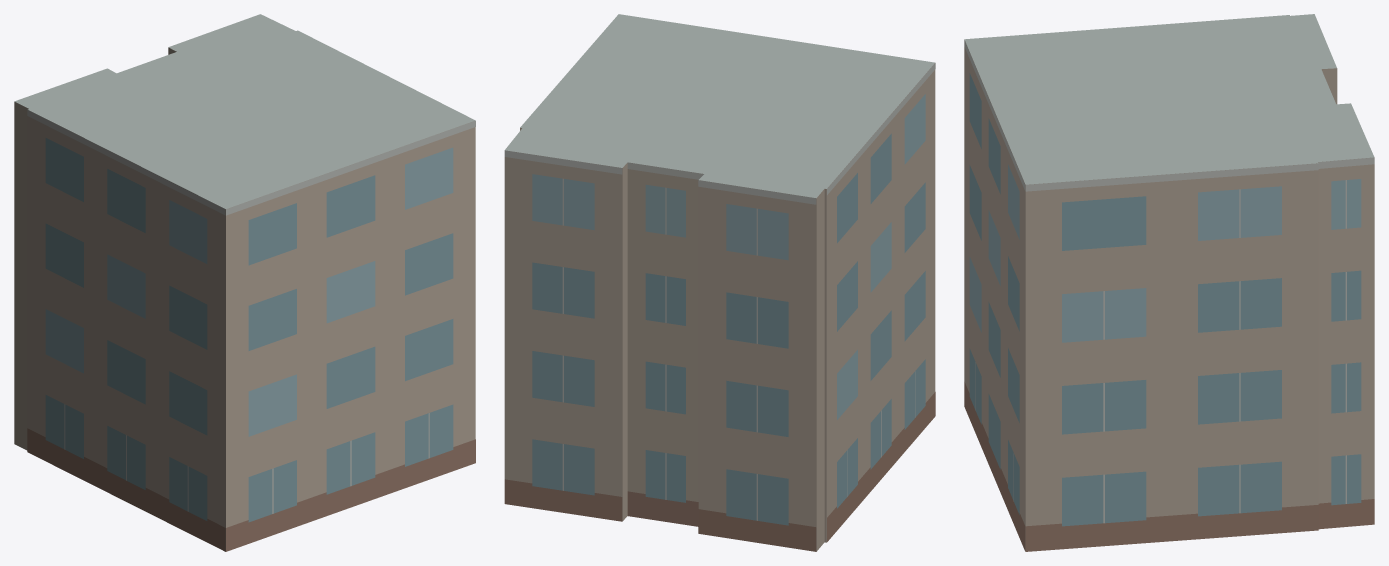
Rendered from survey-upis-32904206.glb.
3 renders of one model, left to right at view 1: azimuth 30°, elevation 25°; view 2: azimuth 150°, elevation 25°; view 3: azimuth 270°, elevation 25°, orthographic. The views are drawn at different scales.
Parts seen in each view (by area): view 1: survey-upis-32904206.tmp; view 2: survey-upis-32904206.tmp; view 3: survey-upis-32904206.tmp.
Part boxes in pixels (box(x1,y1,x2,y2)): survey-upis-32904206.tmp: box(14, 14, 475, 551); survey-upis-32904206.tmp: box(504, 14, 935, 551); survey-upis-32904206.tmp: box(964, 14, 1374, 551).
Size of the model in its own units: 12.97 by 13 by 13.17.
